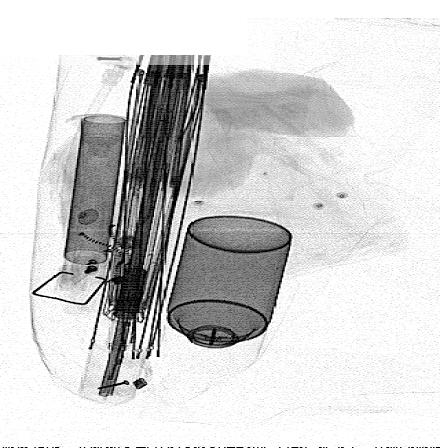Sprayer: (160, 216, 292, 376)
